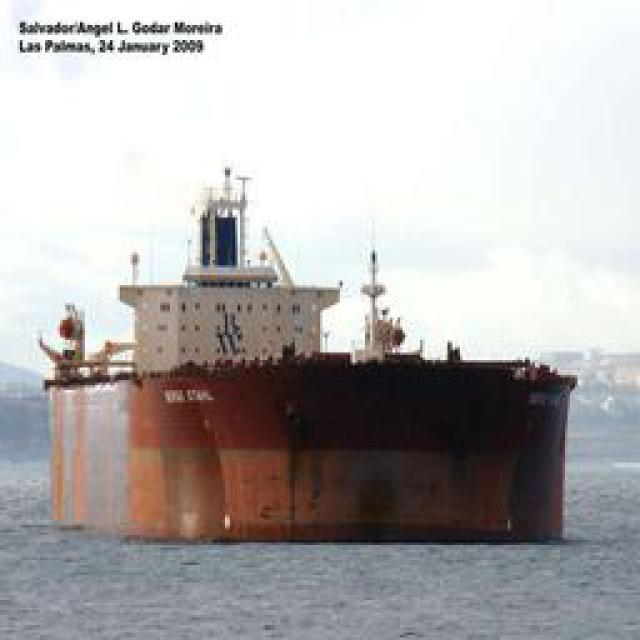Ship: (35, 150, 588, 560)
